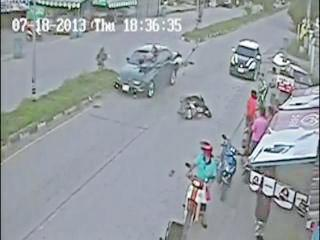Car: (115, 44, 180, 93), (231, 40, 261, 81)
Major Accident: (114, 42, 213, 123)
Motor: (183, 141, 216, 231), (220, 136, 237, 198), (178, 96, 213, 121)
